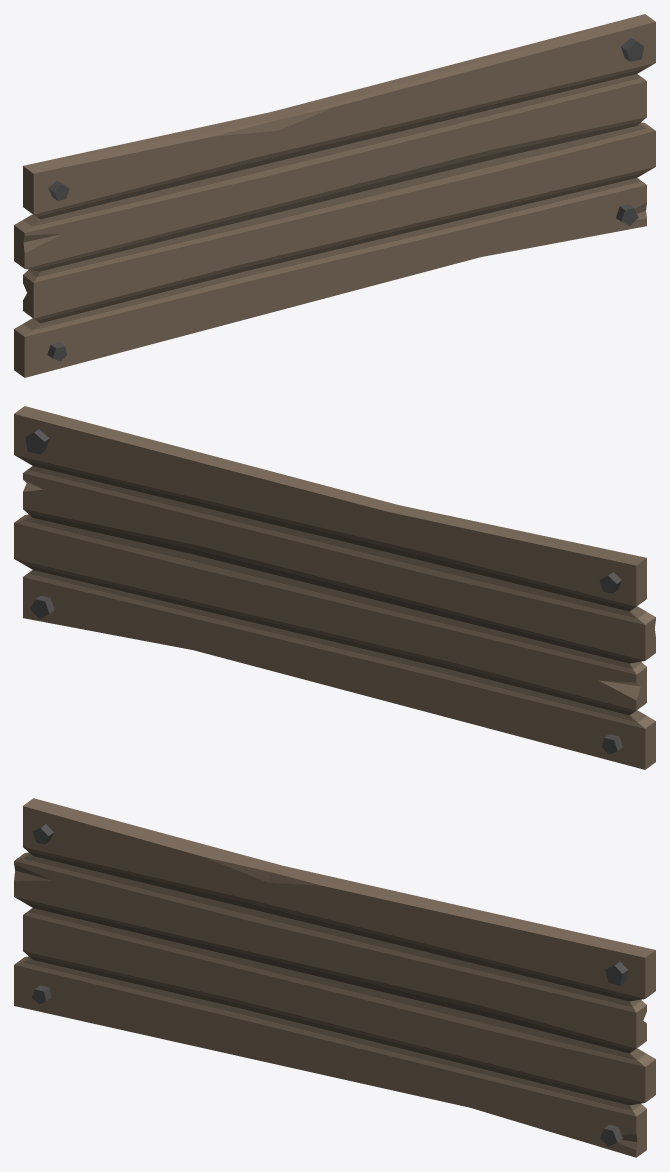
The model's file is SM_Bld_Village_Fence_04.fbx.
3 renders of one model, top to bottom at view 1: azimuth 30°, elevation 25°; view 2: azimuth 150°, elevation 25°; view 3: azimuth 330°, elevation 25°, orthographic.
Parts seen in each view (by area): view 1: SM_Bld_Village_Fence_04; view 2: SM_Bld_Village_Fence_04; view 3: SM_Bld_Village_Fence_04.
Part boxes in pixels (bbox=[...]): SM_Bld_Village_Fence_04: bbox=[14, 14, 655, 377]; SM_Bld_Village_Fence_04: bbox=[14, 406, 655, 769]; SM_Bld_Village_Fence_04: bbox=[14, 798, 655, 1157].
Bounding box in the file's own units: 293 × 89.7 × 17.37.
